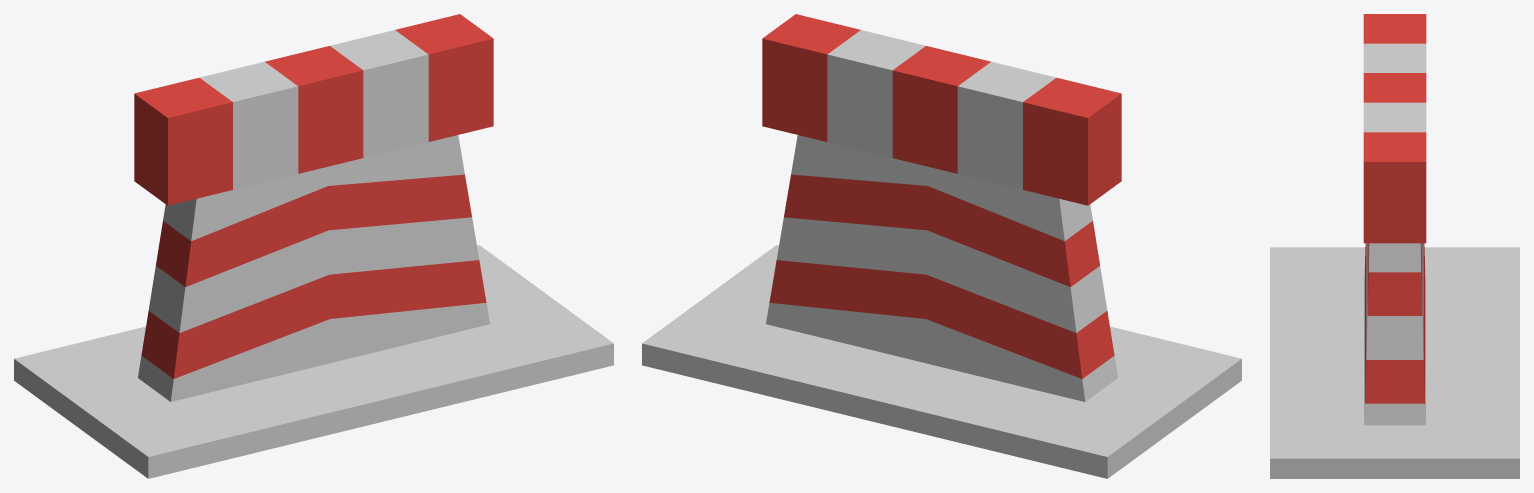
File: Placa.fbx
3 renders of one model, left to right at view 1: azimuth 30°, elevation 25°; view 2: azimuth 150°, elevation 25°; view 3: azimuth 270°, elevation 25°, orthographic. The views are drawn at different scales.
Parts seen in each view (by area): view 1: placa; view 2: placa; view 3: placa.
Boxes of the visible parts, x1,y1,x2,y2 form: placa: (14,14,613,478); placa: (642,14,1241,478); placa: (1270,14,1519,478).
Bounding box in the file's own units: 160 × 101 × 80.
